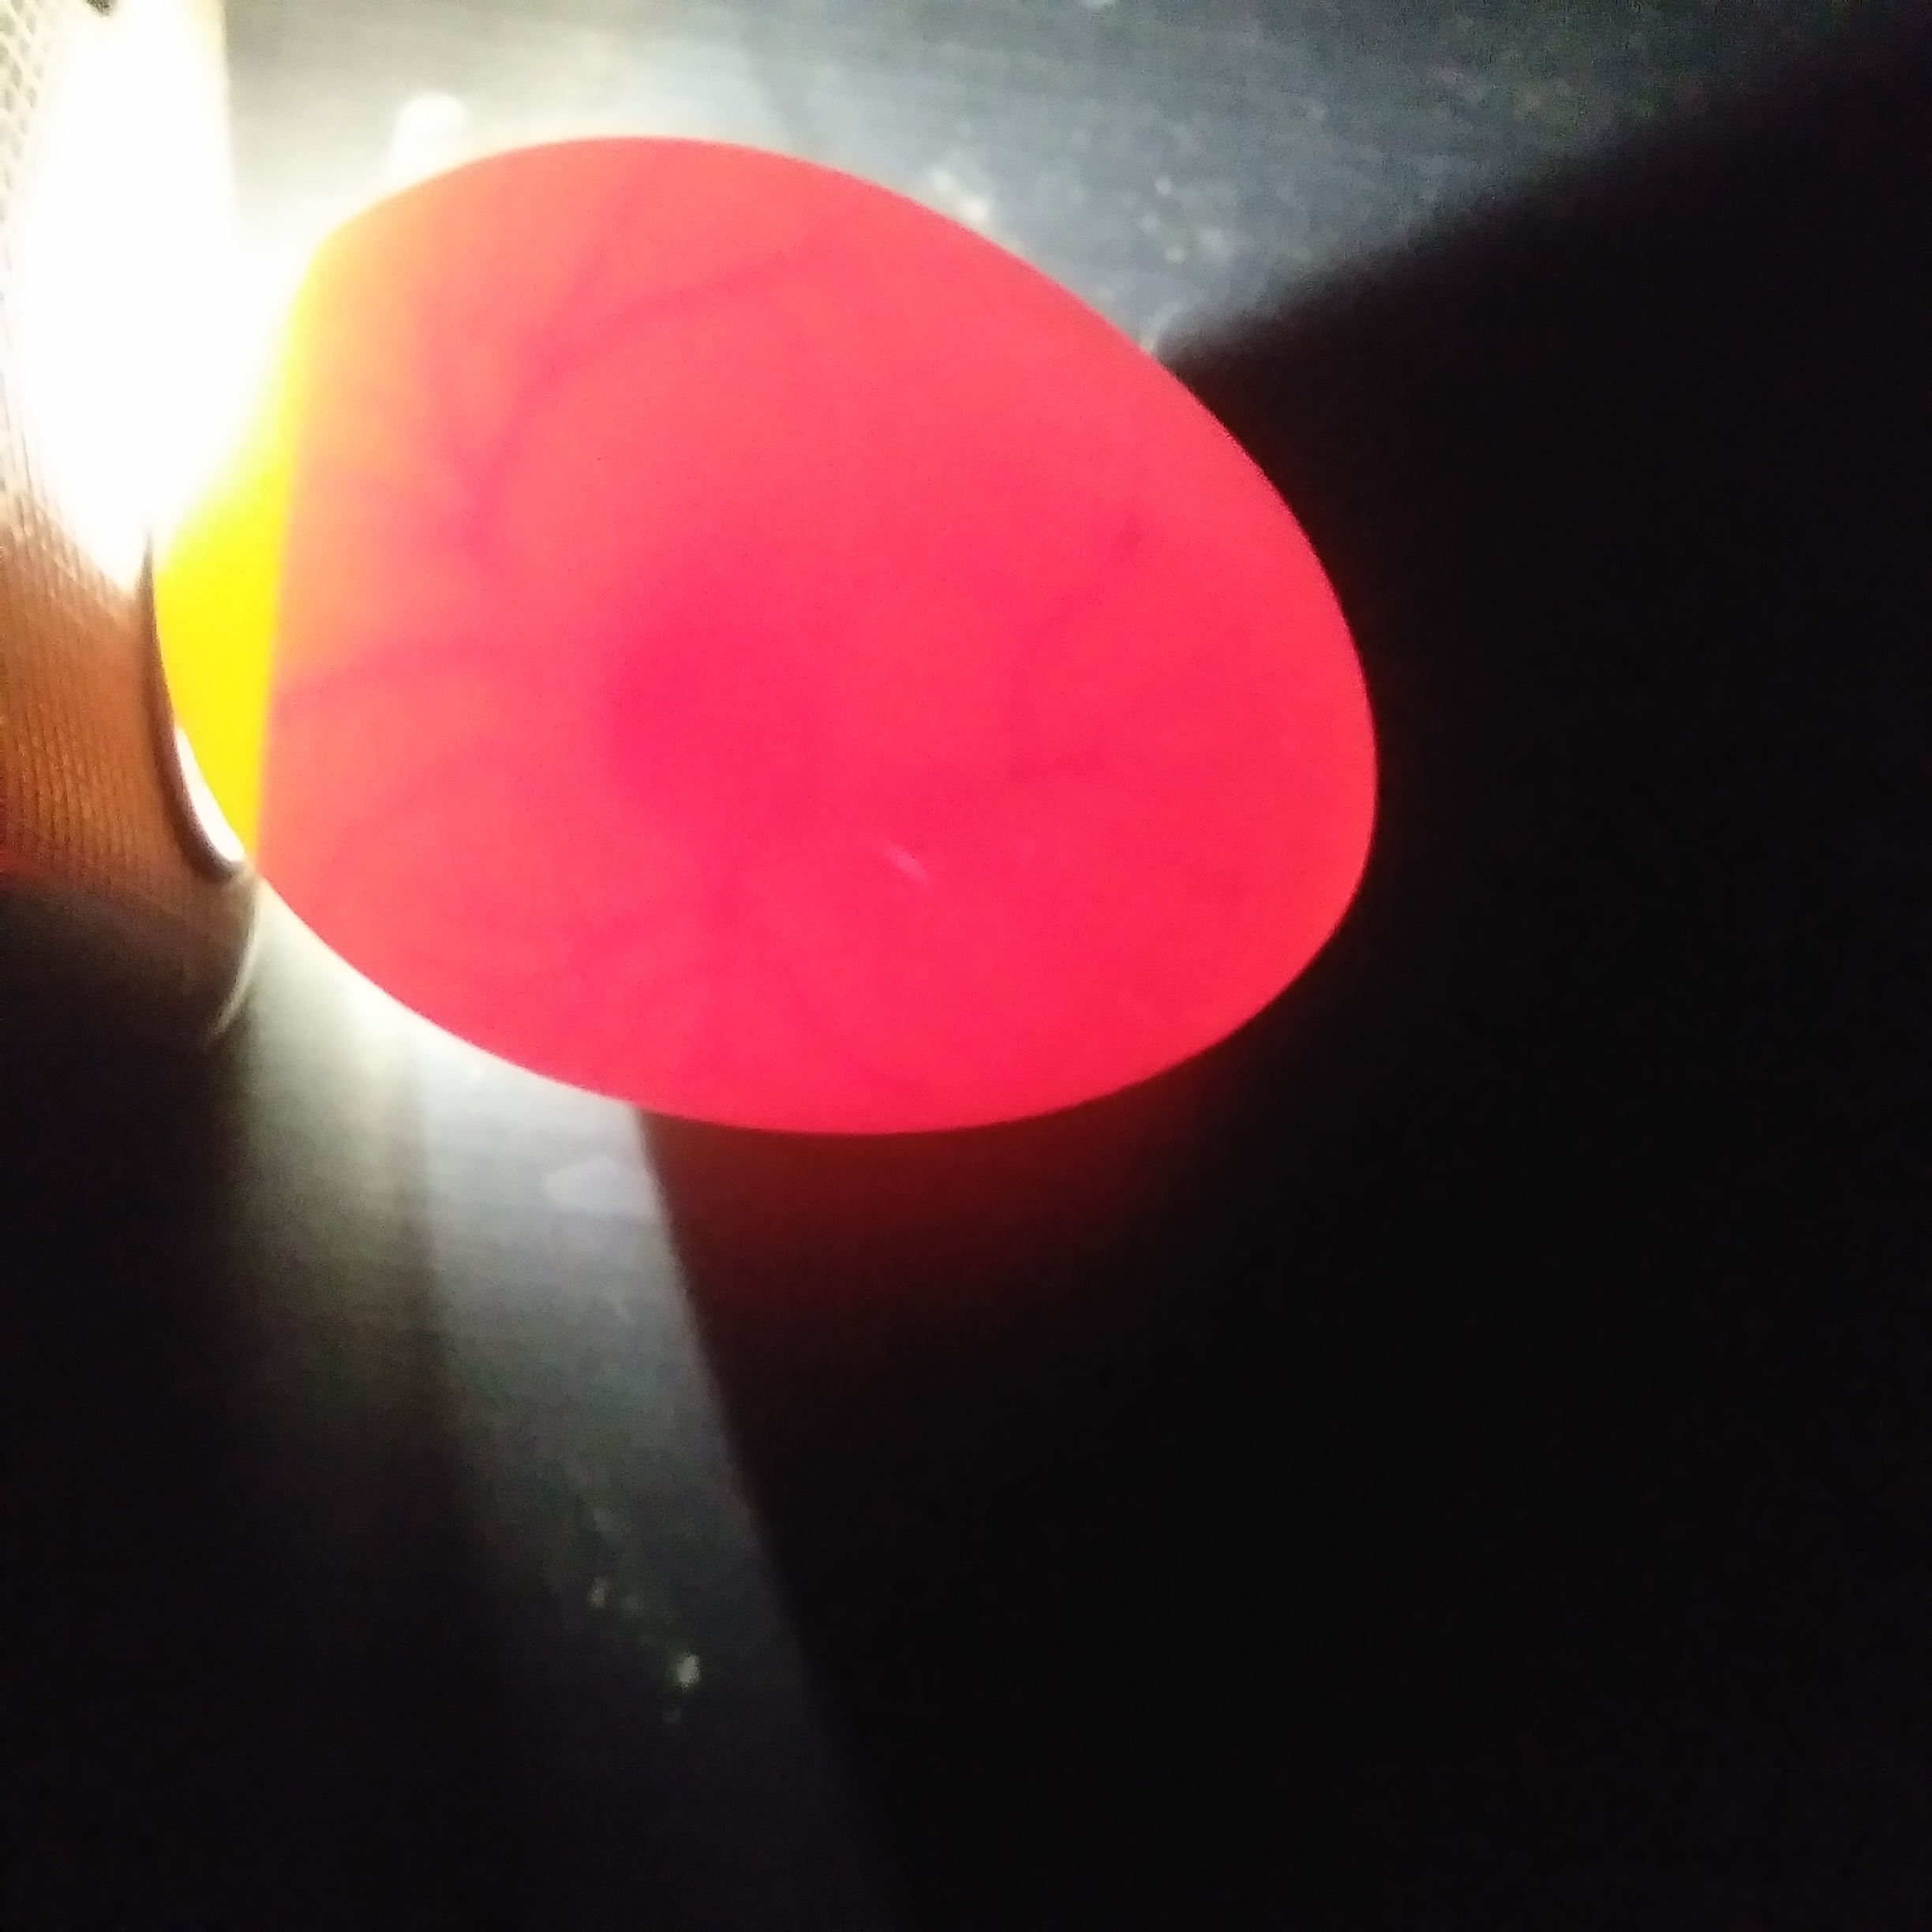bloodcell: (382, 249, 619, 550), (294, 623, 522, 890)
embryo: (564, 587, 750, 789)
